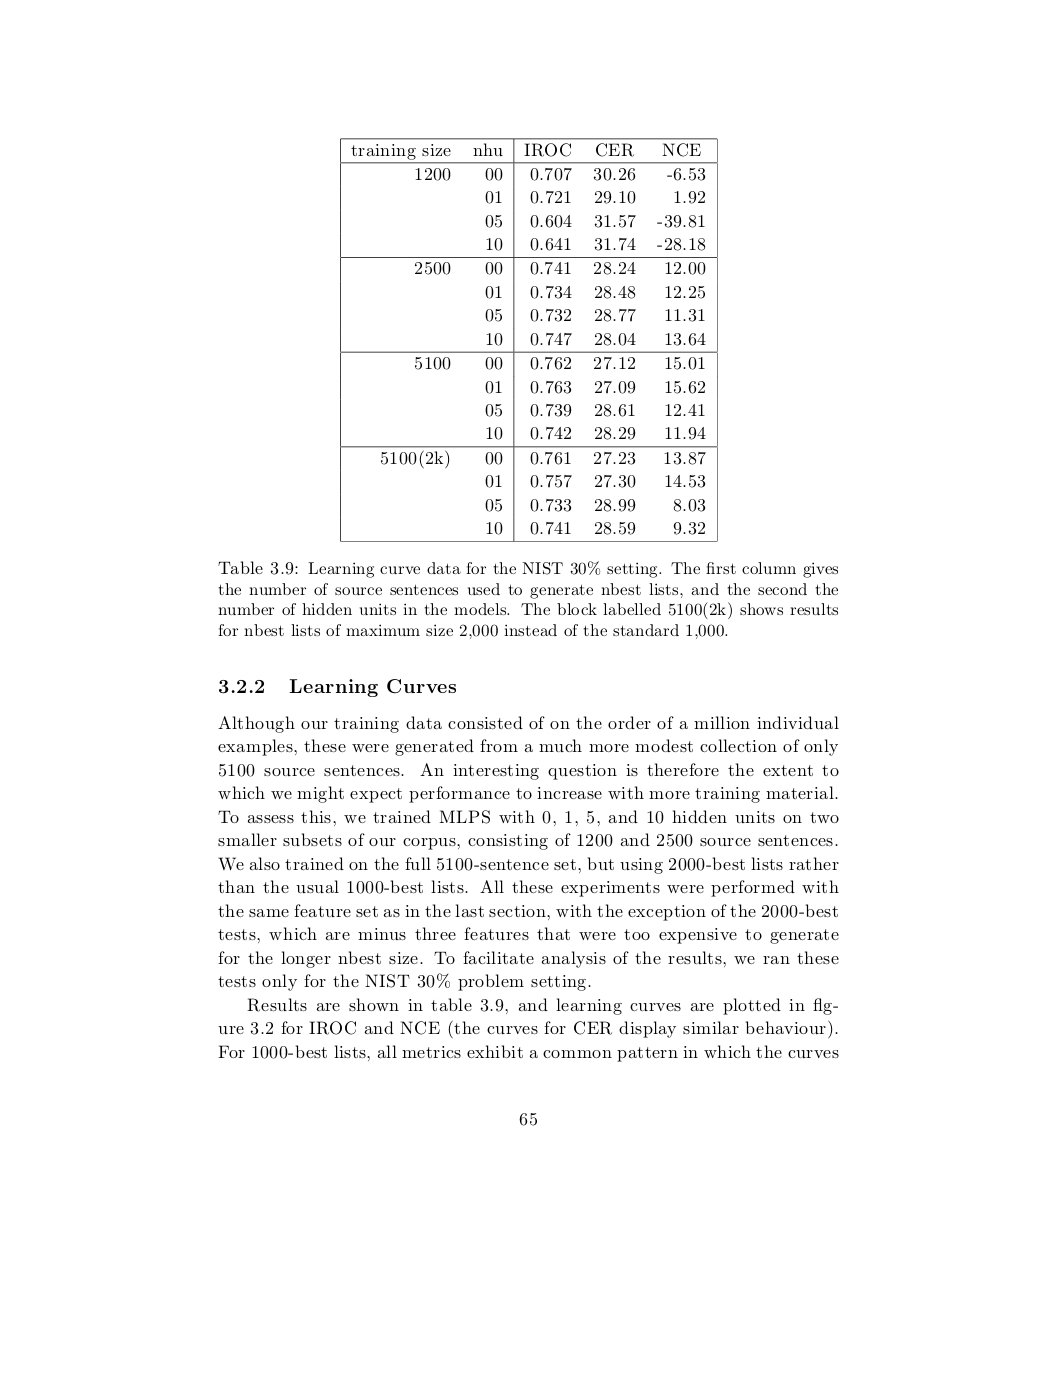Table: (340, 137, 717, 542)
